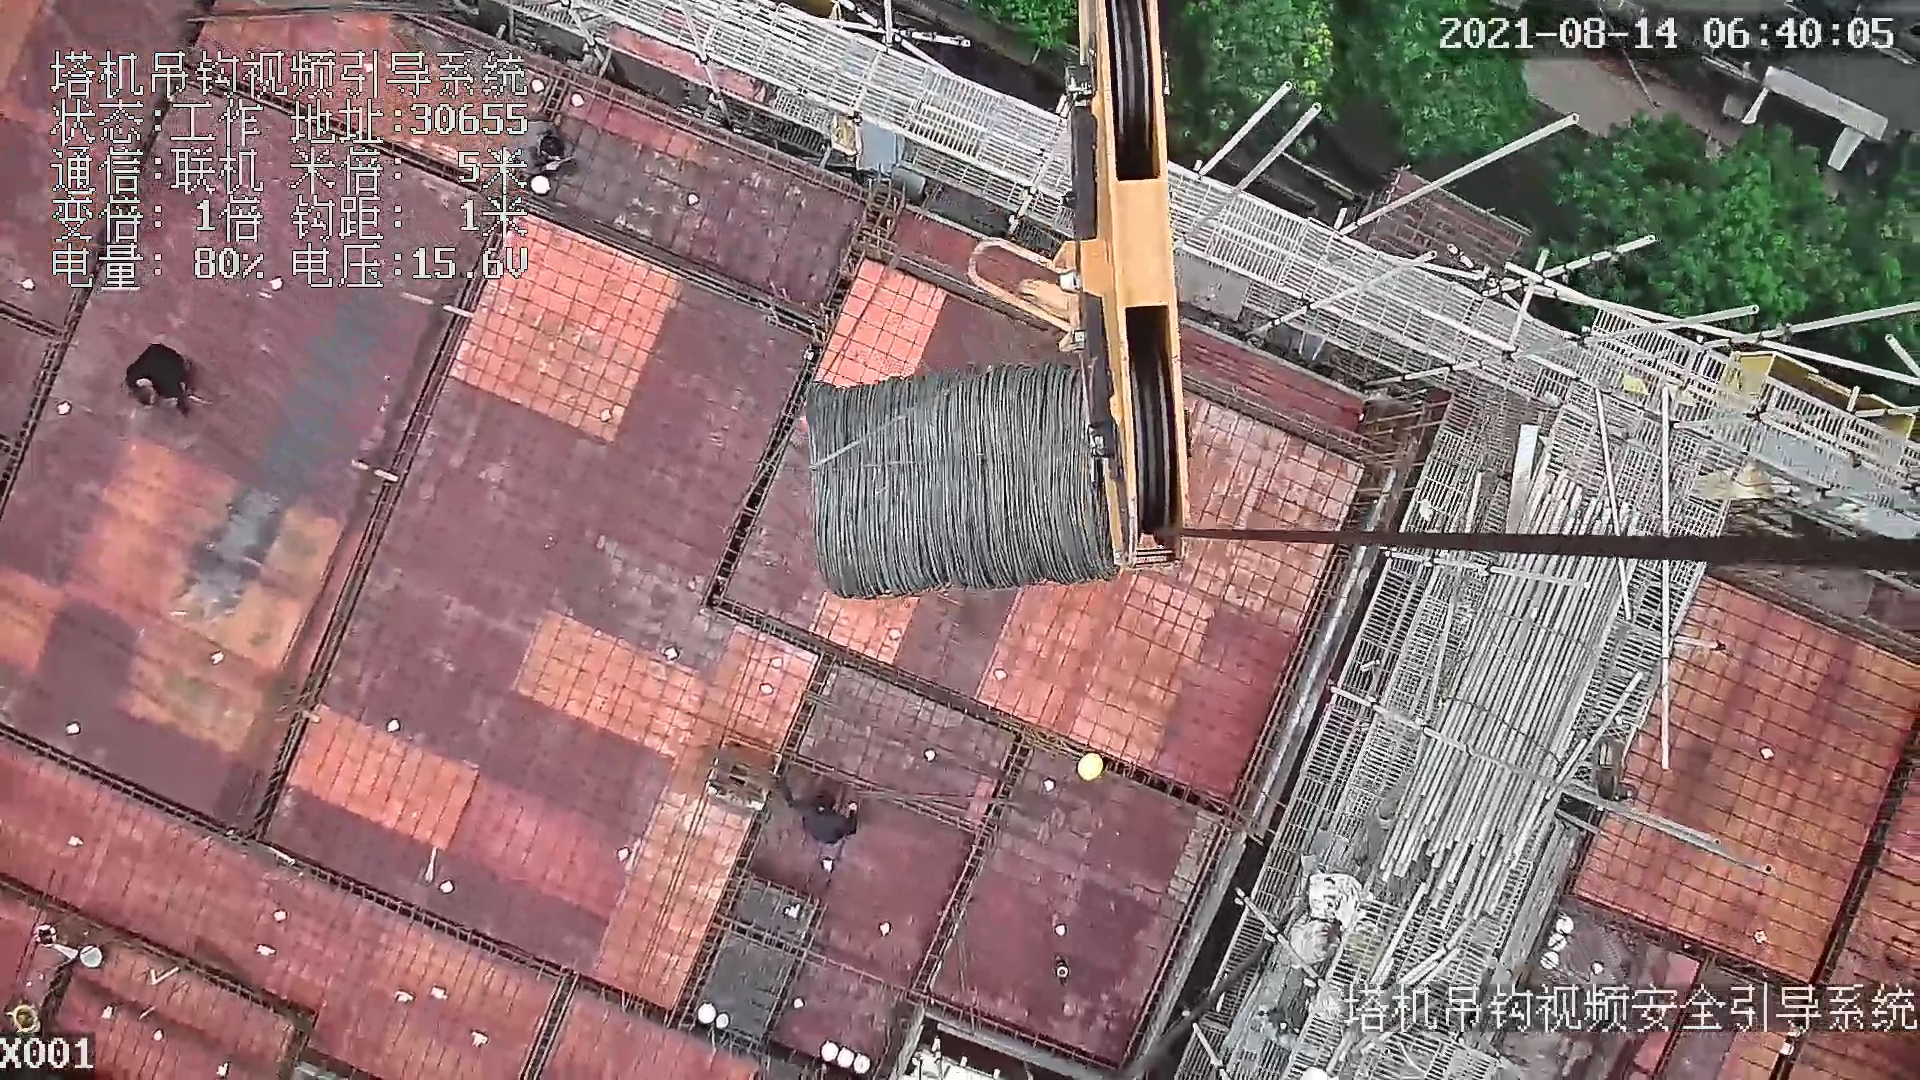helmet: (1074, 749, 1104, 782)
hook: (968, 1, 1196, 577)
person: (123, 339, 203, 422), (788, 776, 865, 849), (507, 117, 577, 194)
